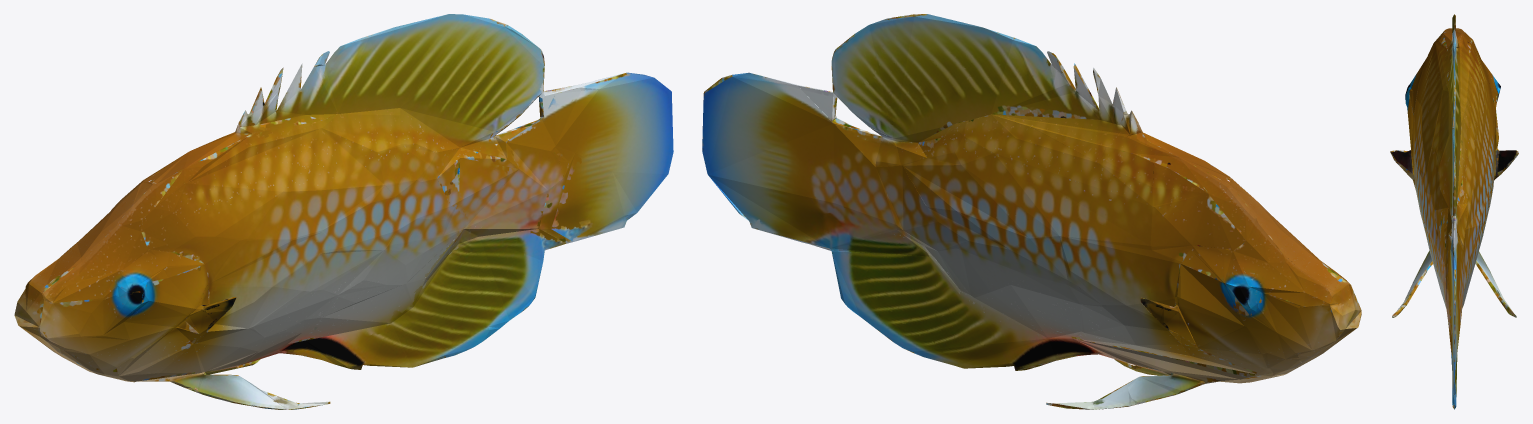
Rendered from fish_0063_smpl23_resized.glb.
3 views of the same model, side by side, from view 1: azimuth 30°, elevation 25°; view 2: azimuth 150°, elevation 25°; view 3: azimuth 270°, elevation 25° (orthographic). The views are drawn at different scales.
Visible parts, largest first — view 1: world; view 2: world; view 3: world.
Part boxes in pixels (x1,y1,x2,y2): world: (14,14,673,409); world: (702,14,1361,409); world: (1390,14,1518,409).
Size of the model in its own units: 1.99 by 1 by 0.3605.
1 material, 1 textured.
